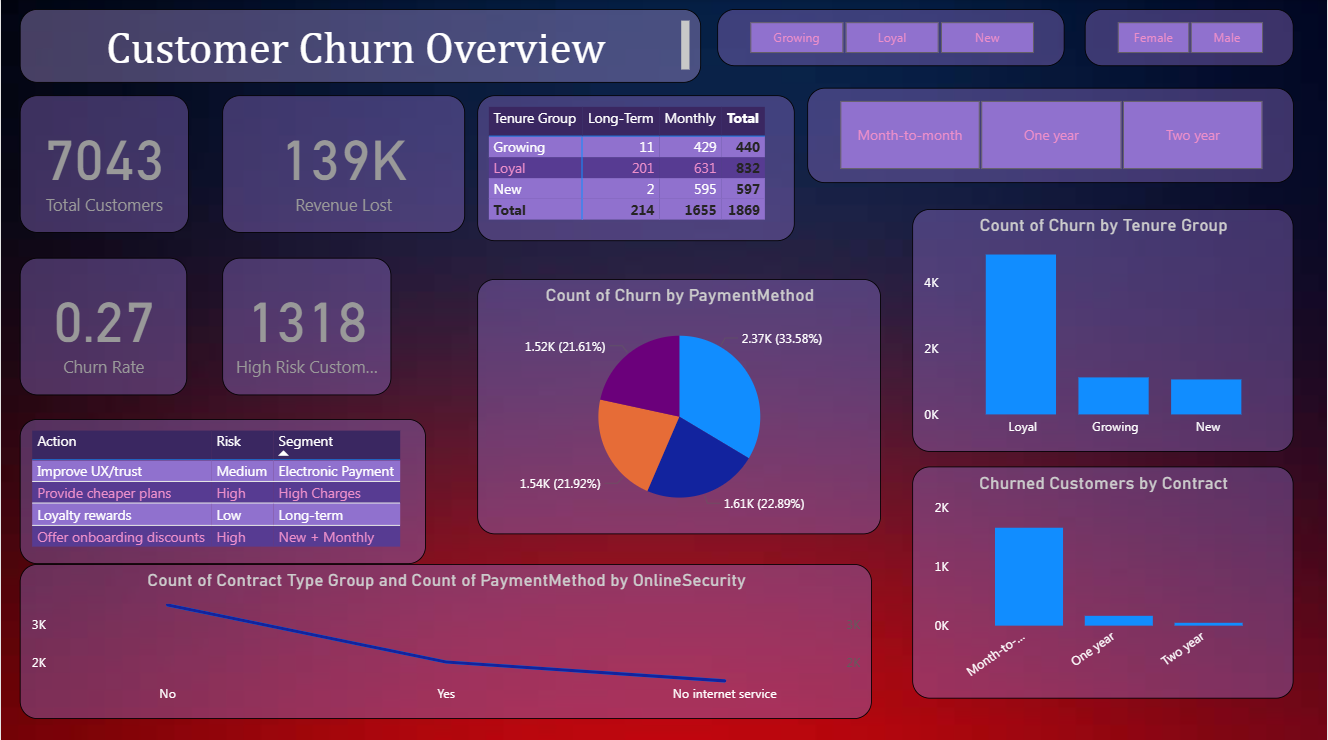

The page's visual inventory and layout, read from the dashboard file:
{"tool":"powerbi","page":{"name":"Page 1","canvas":[1280,720],"ordinal":0},"visuals":[{"type":"card","fields":{"Values":["Telco-Customer-Churn.Total Customers"]},"box":[18.1,92.9,162.9,132.7],"z":0},{"type":"textbox","box":[18.3,9.8,657.9,70.9],"z":1000},{"type":"card","fields":{"Values":["Telco-Customer-Churn.High Risk Customers"]},"box":[213.5,249.7,162.9,132.7],"z":2000},{"type":"card","fields":{"Values":["Telco-Customer-Churn.Revenue Lost"]},"box":[213.5,92.9,234,132.7],"z":3000},{"type":"card","fields":{"Values":["Telco-Customer-Churn.Churn Rate"]},"box":[18.1,249.7,161.7,132.7],"z":4000},{"type":"clusteredColumnChart","fields":{"Category":["Telco-Customer-Churn.Contract"],"Y":["Telco-Customer-Churn.Churned Customers"]},"box":[879.5,451.2,368,224.4],"z":5000},{"type":"clusteredColumnChart","fields":{"Category":["Telco-Customer-Churn.Tenure Group"],"Y":["CountNonNull(Telco-Customer-Churn.Churn)"]},"box":[879.5,202.7,368,234],"z":6000},{"type":"pieChart","fields":{"Category":["Telco-Customer-Churn.PaymentMethod"],"Y":["CountNonNull(Telco-Customer-Churn.Churn)"]},"box":[459.7,270.2,389.7,246.1],"z":7000},{"type":"pivotTable","fields":{"Rows":["Telco-Customer-Churn.Tenure Group"],"Columns":["Telco-Customer-Churn.Contract Type Group"],"Values":["Telco-Customer-Churn.Churned Customers"]},"box":[459.7,92.9,306.4,141.2],"z":8000},{"type":"tableEx","fields":{"Values":["Table.Action","Table.Risk","Table.Segment"]},"box":[18.1,405.4,392.1,139.9],"z":9000},{"type":"slicer","fields":{"Values":["Telco-Customer-Churn.Contract"]},"box":[778.2,85.7,469.3,91.7],"z":10000},{"type":"slicer","fields":{"Values":["Telco-Customer-Churn.Tenure Group"]},"box":[691.3,9.7,335.4,55.5],"z":11000},{"type":"slicer","fields":{"Values":["Telco-Customer-Churn.gender"]},"box":[1046,9.7,201.5,55.5],"z":12000},{"type":"lineChart","fields":{"Category":["Telco-Customer-Churn.OnlineSecurity"],"Y2":["CountNonNull(Telco-Customer-Churn.PaymentMethod)"],"Y":["CountNonNull(Telco-Customer-Churn.Contract Type Group)"]},"box":[18.1,545.3,822.8,149.6],"z":13000}]}

Visuals, with their boxes in screenshot pixels (x1, y1, x2, y2), scaled from the page's 1280x720 canvas onto the 1328x740 screenshot:
card - Telco-Customer-Churn.Total Customers: rect(19, 95, 188, 232)
textbox: rect(19, 10, 702, 83)
card - Telco-Customer-Churn.High Risk Customers: rect(222, 257, 391, 393)
card - Telco-Customer-Churn.Revenue Lost: rect(222, 95, 464, 232)
card - Telco-Customer-Churn.Churn Rate: rect(19, 257, 187, 393)
clusteredColumnChart - Telco-Customer-Churn.Contract x Telco-Customer-Churn.Churned Customers: rect(912, 464, 1294, 694)
clusteredColumnChart - Telco-Customer-Churn.Tenure Group x CountNonNull(Telco-Customer-Churn.Churn): rect(912, 208, 1294, 449)
pieChart - Telco-Customer-Churn.PaymentMethod x CountNonNull(Telco-Customer-Churn.Churn): rect(477, 278, 881, 531)
pivotTable - Telco-Customer-Churn.Tenure Group x Telco-Customer-Churn.Contract Type Group: rect(477, 95, 795, 241)
tableEx - Table.Action x Table.Risk: rect(19, 417, 426, 560)
slicer - Telco-Customer-Churn.Contract: rect(807, 88, 1294, 182)
slicer - Telco-Customer-Churn.Tenure Group: rect(717, 10, 1065, 67)
slicer - Telco-Customer-Churn.gender: rect(1085, 10, 1294, 67)
lineChart - Telco-Customer-Churn.OnlineSecurity x CountNonNull(Telco-Customer-Churn.PaymentMethod): rect(19, 560, 872, 714)
